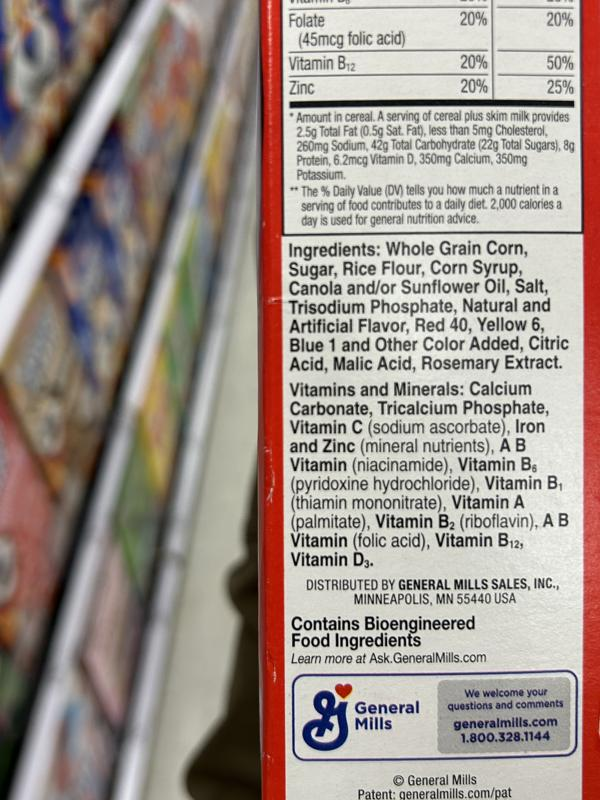ingredients: (284, 238, 572, 375)
